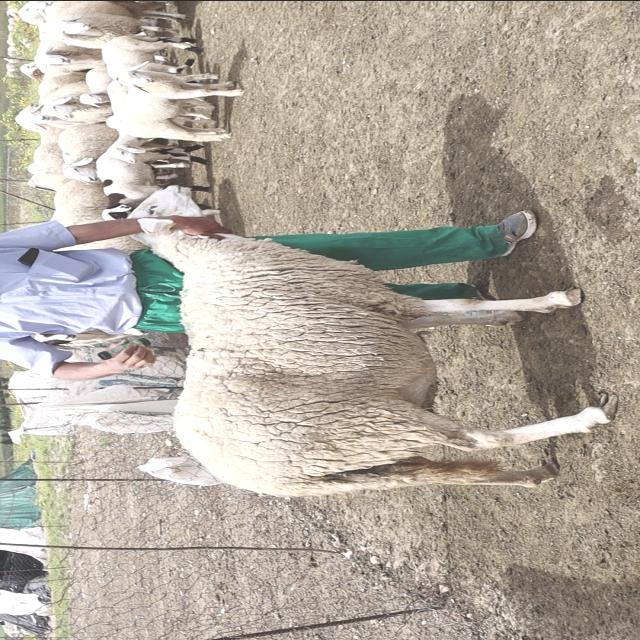Score_3: (127, 185, 617, 496)
